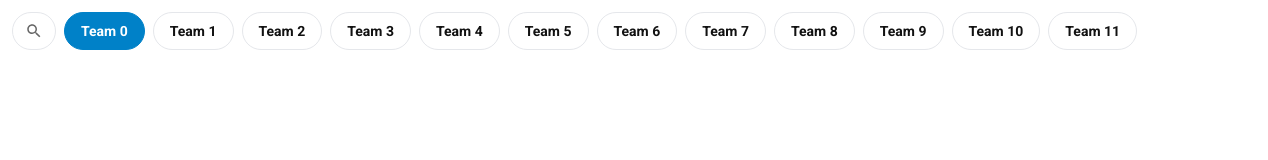
it: PillBar › filters pills live and jumps on pick
Click the button titled "Jump to..." at (34, 31), box [12,12,56,50]
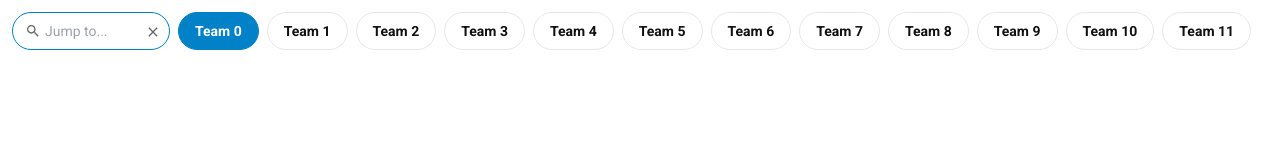
Type "Team 1" into the field with placeholder "Jump to..." at (93, 31), box [45,21,141,41]
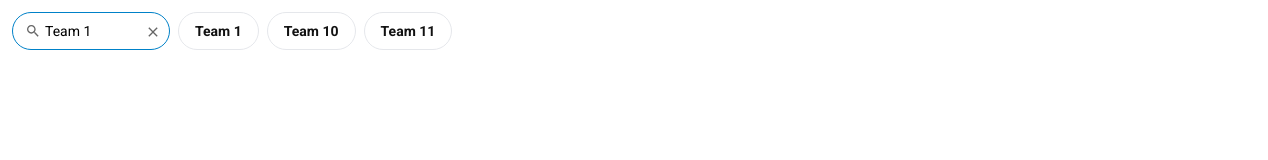
Expected: the button "Team 2" is gone
Click the button "Team 11" at (408, 31), box [364,12,452,50]
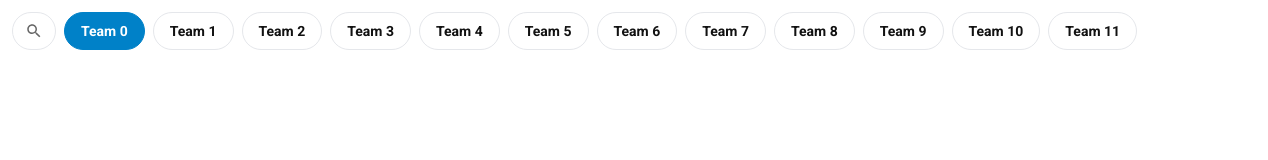
Expected: the field with placeholder "Jump to..." is not shown
Expected: the button "Team 2" is shown, [242,12,322,50]
